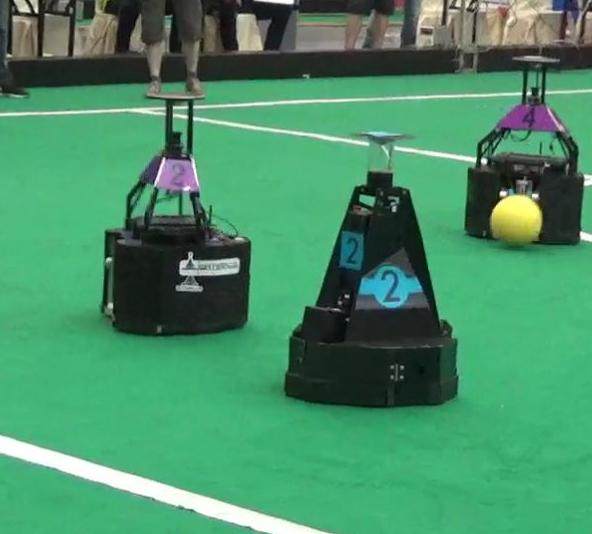robot: (277, 123, 463, 411), (98, 85, 254, 339), (465, 48, 585, 248)
